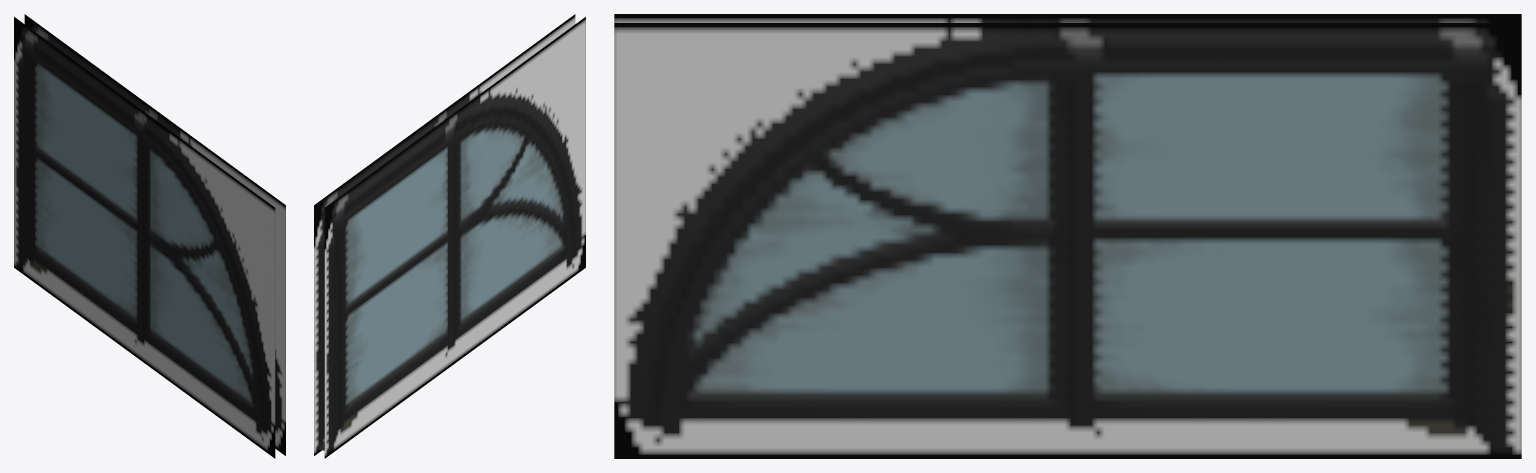
Rendered from pz_native_fixtures_windows_metal_0_frame.obj.
The picture shows the model from 3 angles, left to right: view 1: azimuth 30°, elevation 25°; view 2: azimuth 150°, elevation 25°; view 3: azimuth 270°, elevation 25°; orthographic projection. The views are drawn at different scales.
Parts seen in each view (by area): view 1: pz_native_fixtures_windows_metal_0_frame; view 2: pz_native_fixtures_windows_metal_0_frame; view 3: pz_native_fixtures_windows_metal_0_frame.
Boxes of the visible parts, left/top/right/bottom form: pz_native_fixtures_windows_metal_0_frame: left=14, top=14, right=285, bottom=458; pz_native_fixtures_windows_metal_0_frame: left=314, top=14, right=585, bottom=458; pz_native_fixtures_windows_metal_0_frame: left=614, top=14, right=1521, bottom=458.
Size of the model in its own units: 0.04 by 0.9062 by 1.71.
Materials: 1 (1 with a texture image).
